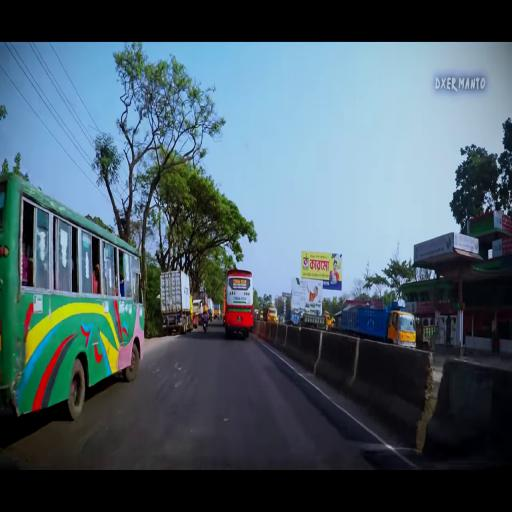bus: (1, 171, 146, 418), (225, 269, 255, 333)
motorbike: (203, 320, 207, 332)
truck: (341, 309, 417, 347), (160, 269, 194, 332), (303, 313, 332, 327), (263, 307, 279, 322)
